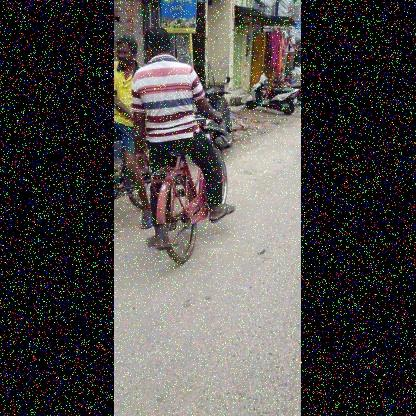Bicycle: (136, 108, 242, 274)
